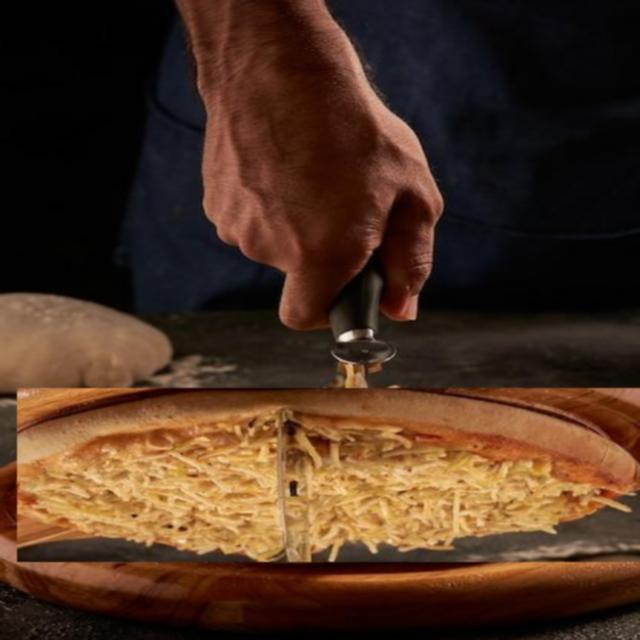pizza: (17, 388, 640, 562)
